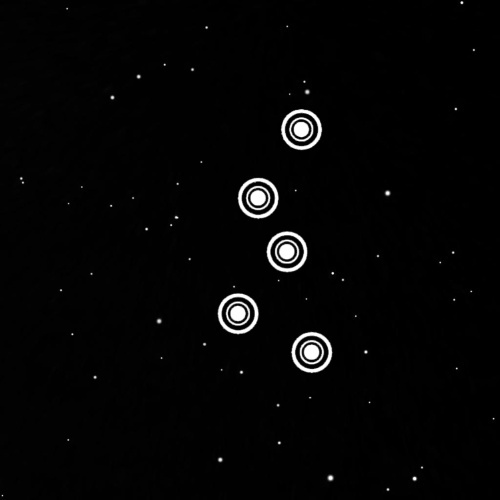cassiopeia: (202, 90, 342, 390)
